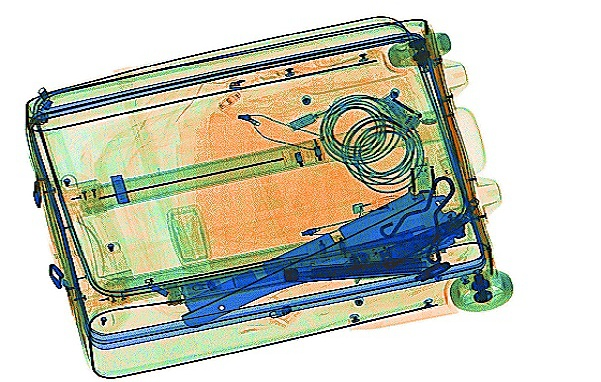lighter: (349, 191, 407, 215)
slingshot: (377, 175, 457, 265)
